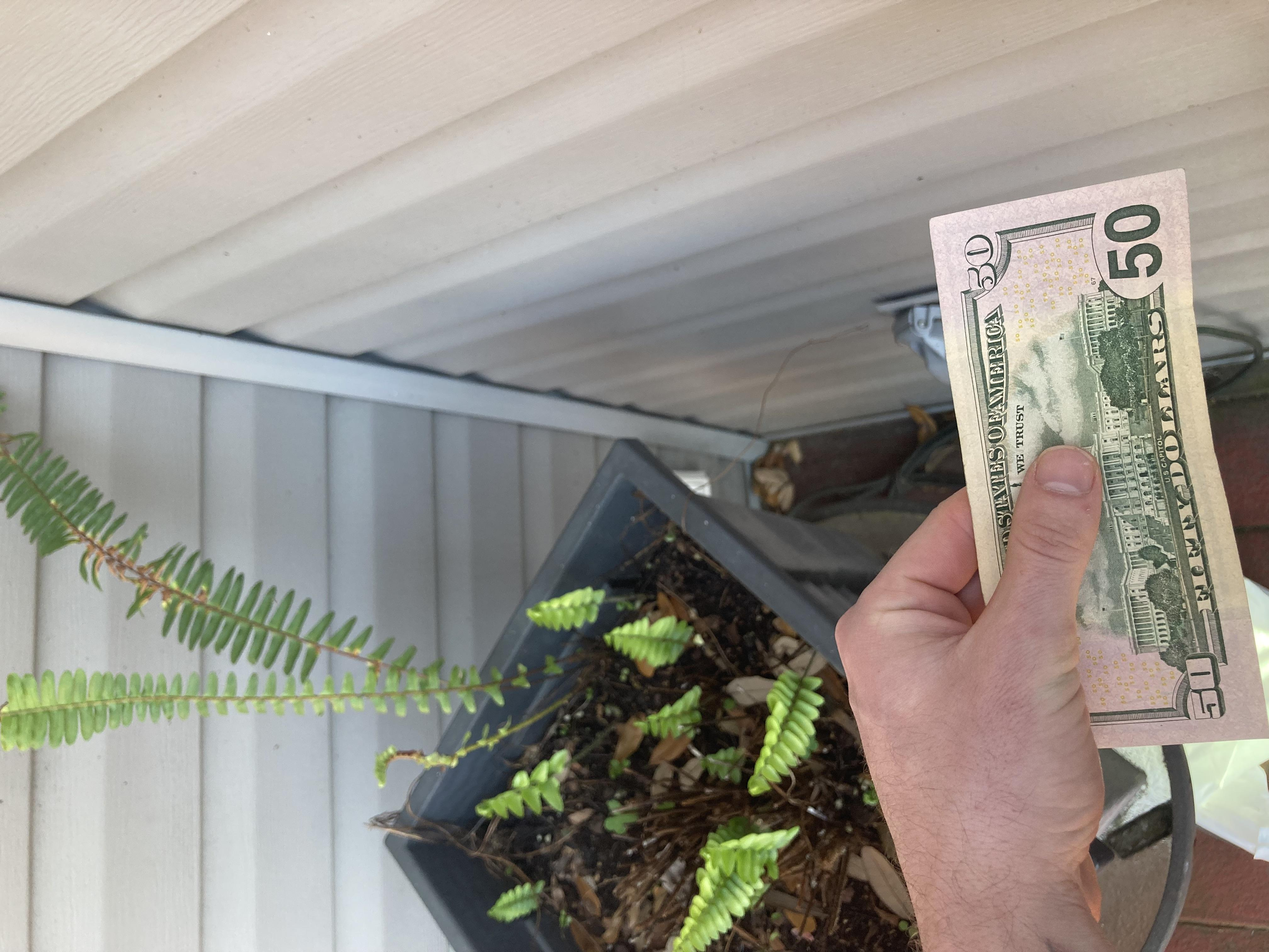fifty-back: (265, 697, 1052, 952)
